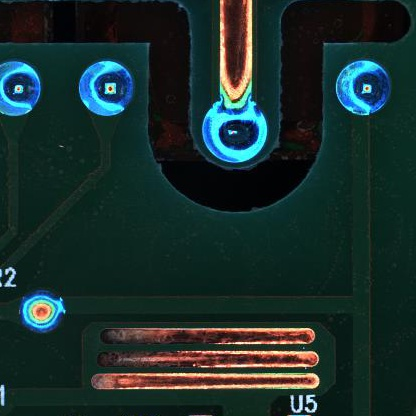spot: (201, 101, 270, 165), (334, 59, 392, 117), (77, 60, 134, 118), (19, 289, 67, 337), (1, 63, 42, 118)
